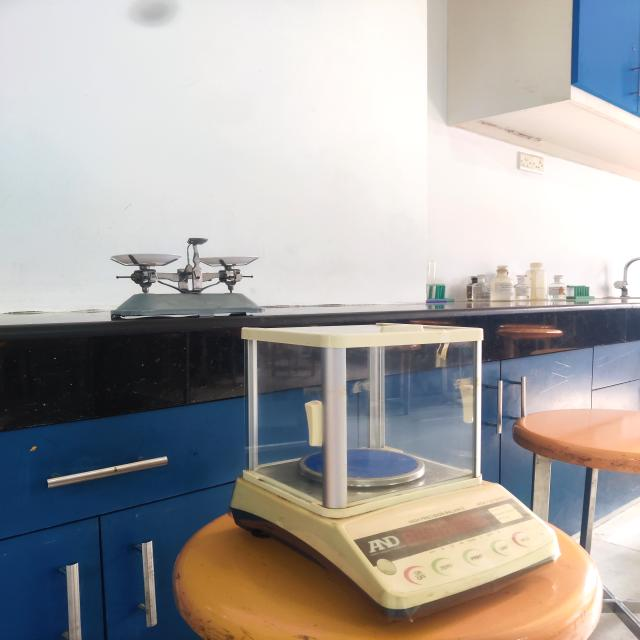Mechanical_Balance_Scale: (87, 216, 288, 336)
Precision_Weight_Scale: (221, 305, 584, 640)
